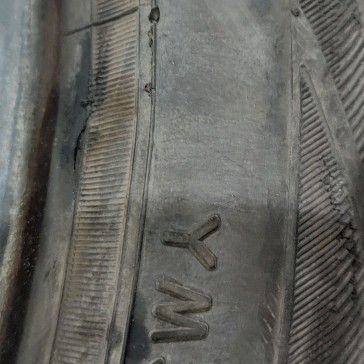cut: (73, 96, 97, 171)
